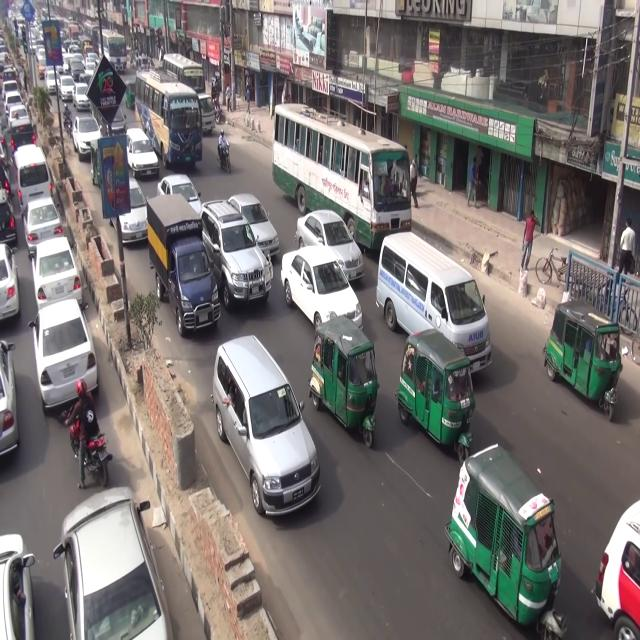silver: (210, 333, 322, 518), (46, 498, 178, 640), (201, 196, 258, 308), (292, 209, 367, 283), (224, 177, 284, 259)
white: (375, 218, 511, 378), (30, 302, 104, 411), (279, 249, 365, 339), (25, 240, 92, 308), (118, 118, 166, 182), (157, 163, 205, 224), (15, 196, 71, 246), (7, 144, 58, 198), (60, 101, 104, 161)
